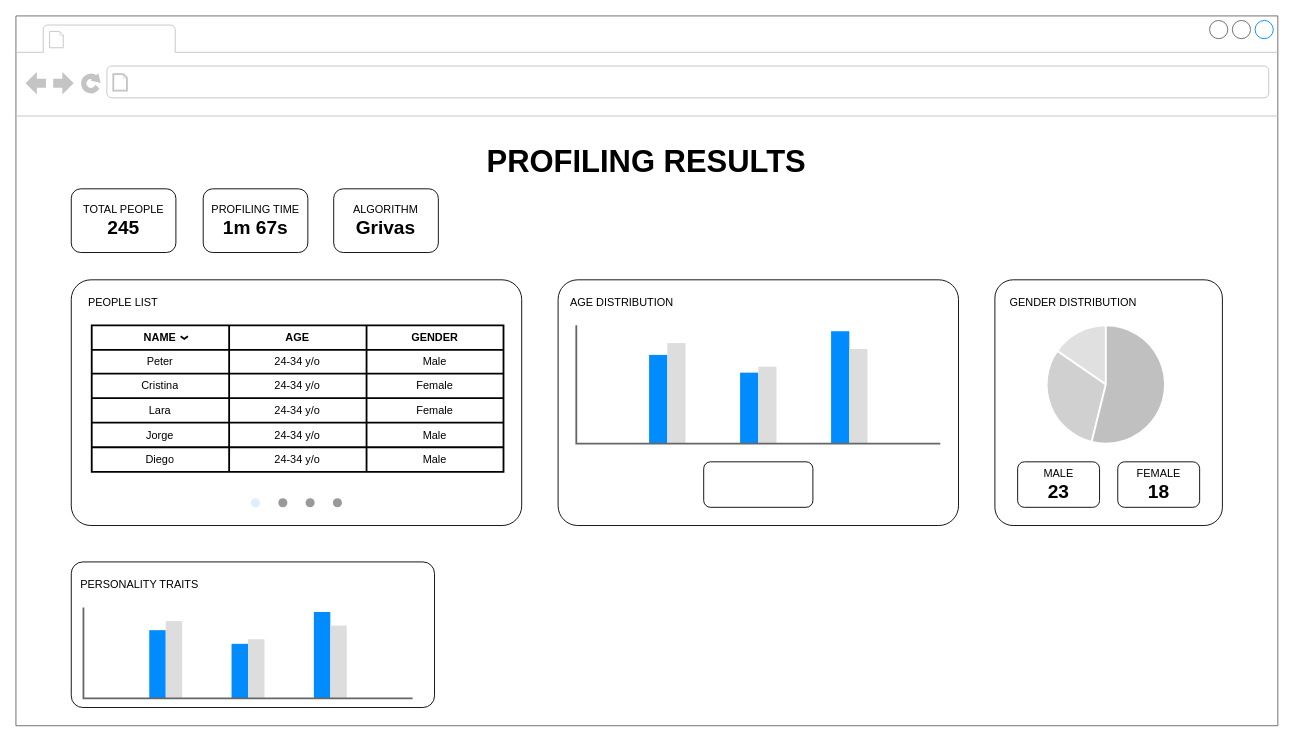
Image size: 1294x742. Some labels were removed from this diagram. The shapes that lost their labels are listed below. From the top down, each one's centre as x and y in pixels, then its label:
point 120,38: Page 1
point 247,82: https://www.draw.io
point 758,484: MEDIAN AGE 34-45 y/o
